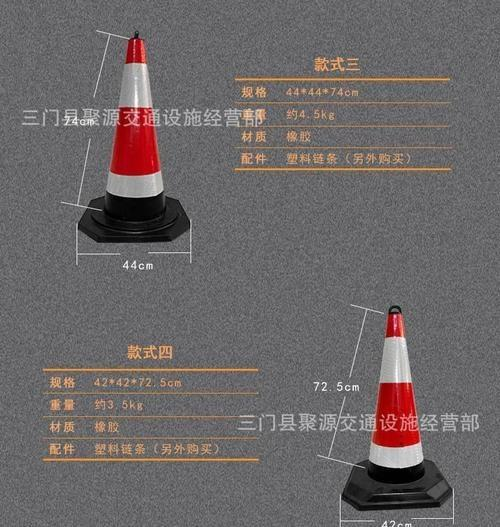cone_barrel: (88, 35, 178, 236), (352, 304, 438, 498)
